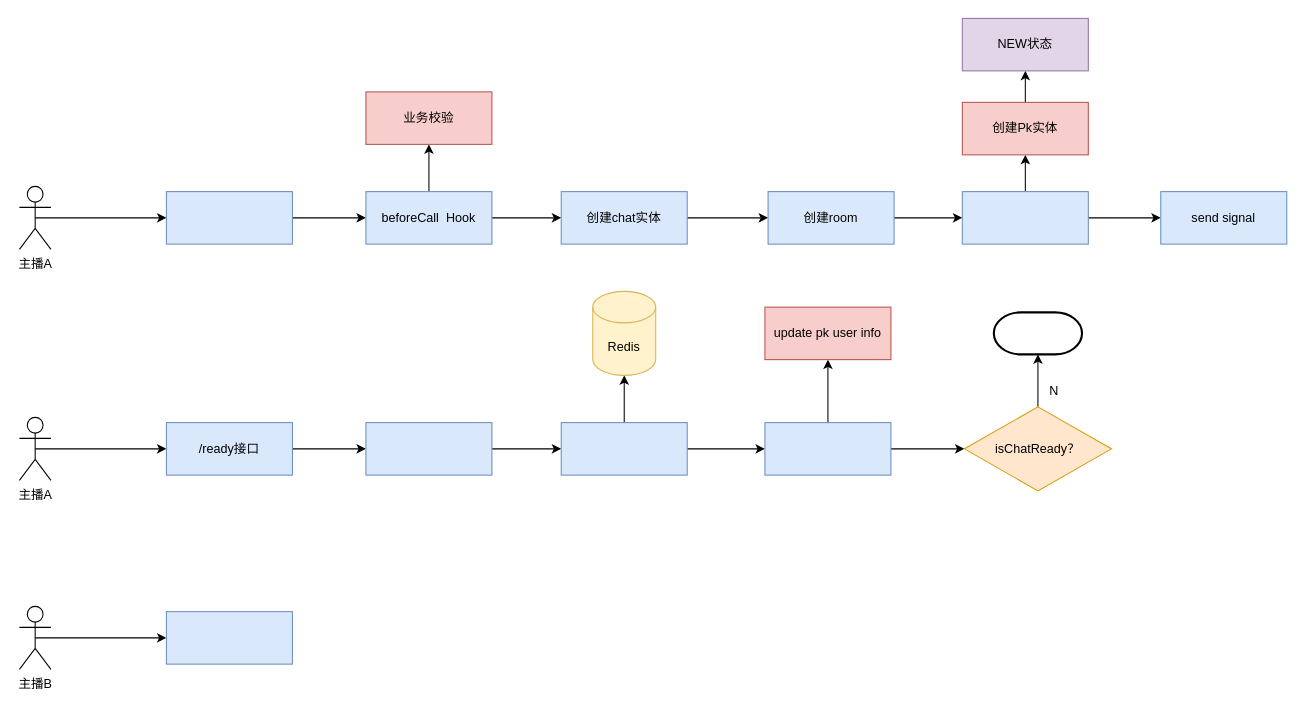
This 1305x710 diagram has some shape labels left out. Here are the shapes that lost their labels. From the top down, the box of each, then its label:
(165, 191, 292, 244): /call接口
(961, 191, 1088, 244): afterCreateChat Hook
(992, 311, 1083, 355): 结束
(365, 422, 492, 475): roomReady
(560, 422, 687, 475): update user ready
(764, 422, 891, 475): afterReady Hook
(165, 611, 292, 664): /accept接口
